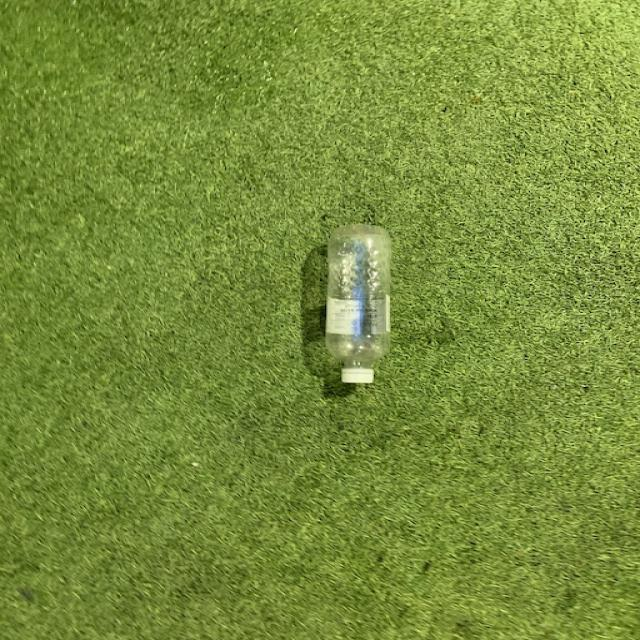litter: (315, 227, 396, 388)
